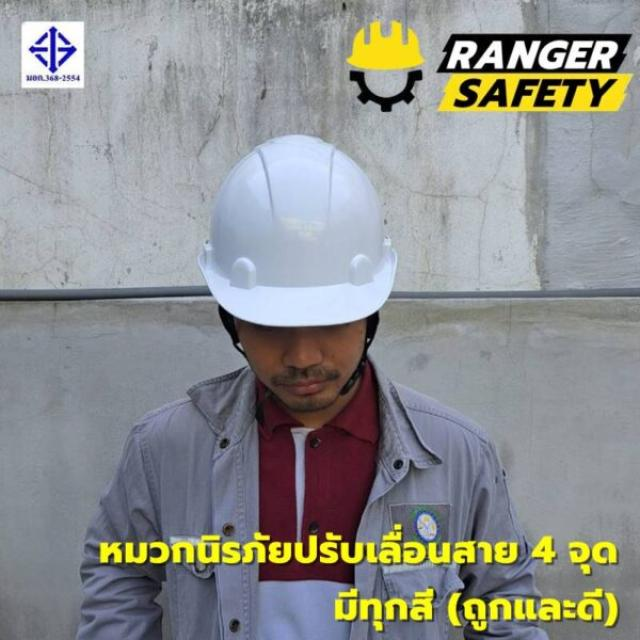white helmet: (195, 133, 406, 333)
